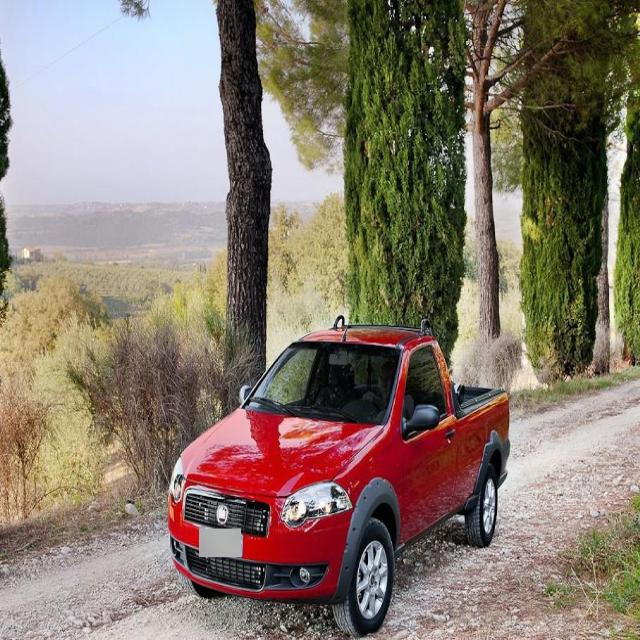front_bumper: (166, 528, 348, 605)
front_glass: (243, 342, 403, 428)
front_left_side_door: (390, 333, 462, 550)
front_left_side_light: (278, 478, 354, 532)
front_left_side_mirror: (401, 404, 441, 437)
front_right_side_light: (167, 455, 185, 507)
front_right_side_mirror: (239, 380, 252, 407)
wheel: (332, 518, 394, 635), (466, 465, 498, 548)
